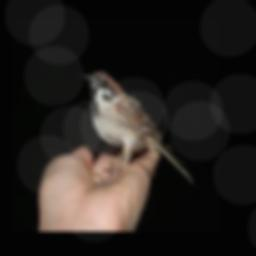Sparrow: (82, 69, 193, 181)
